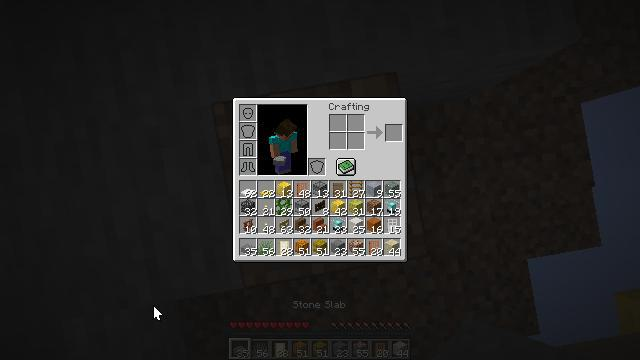cursor: (305, 153, 321, 163)
